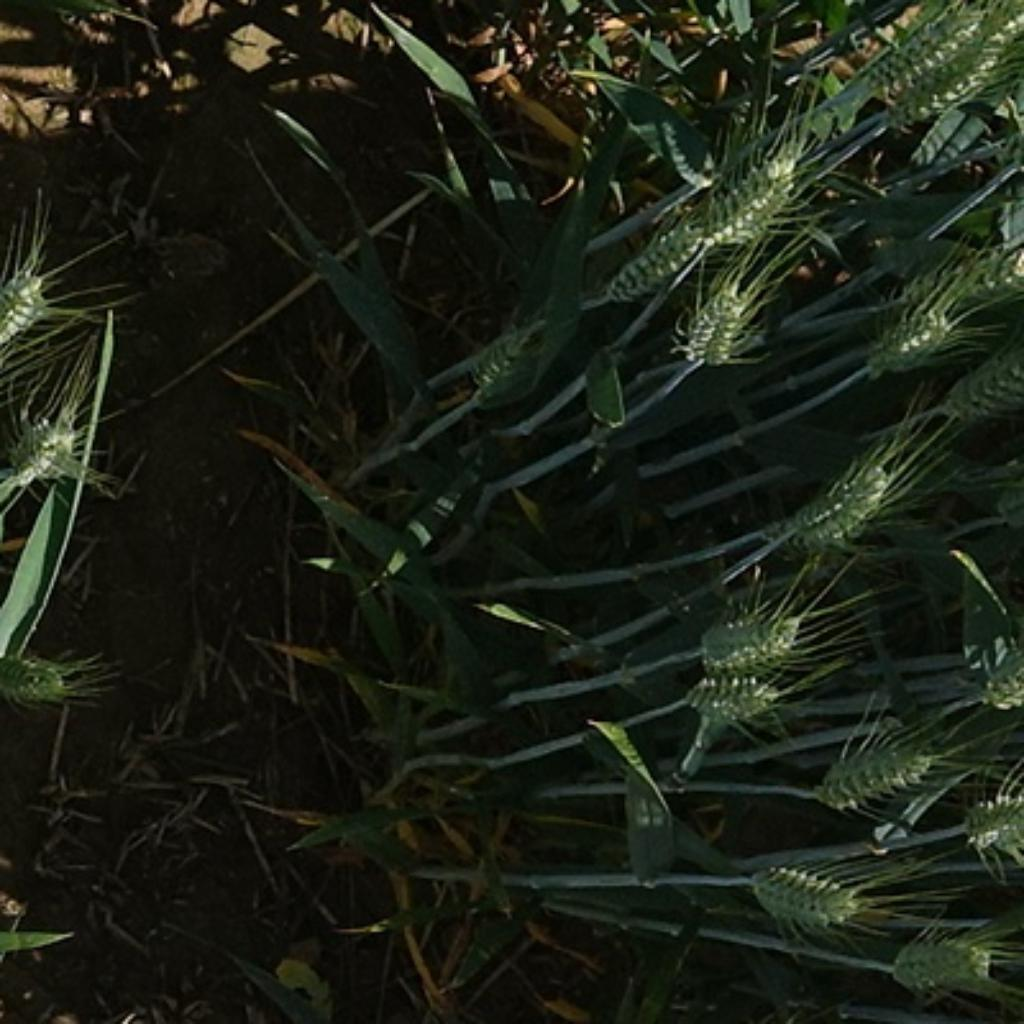0-0: (765, 435, 913, 568), (888, 25, 1024, 135), (808, 739, 946, 829), (867, 10, 1003, 99), (693, 151, 806, 253), (606, 202, 714, 302), (739, 852, 870, 931), (460, 312, 560, 409), (696, 599, 814, 678), (883, 921, 998, 1000), (0, 404, 102, 491), (673, 271, 762, 363), (900, 248, 1024, 313), (686, 657, 785, 737), (862, 296, 960, 371), (944, 343, 1024, 417), (0, 640, 84, 704), (0, 258, 58, 348), (0, 327, 5, 455)
